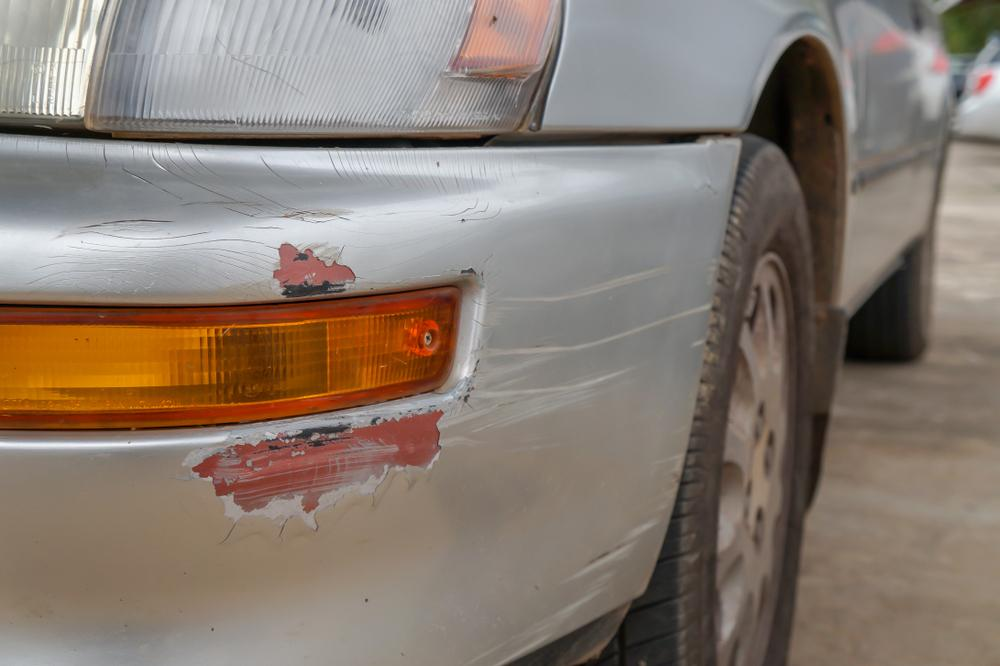scratch: (171, 260, 713, 657), (261, 236, 366, 302)
